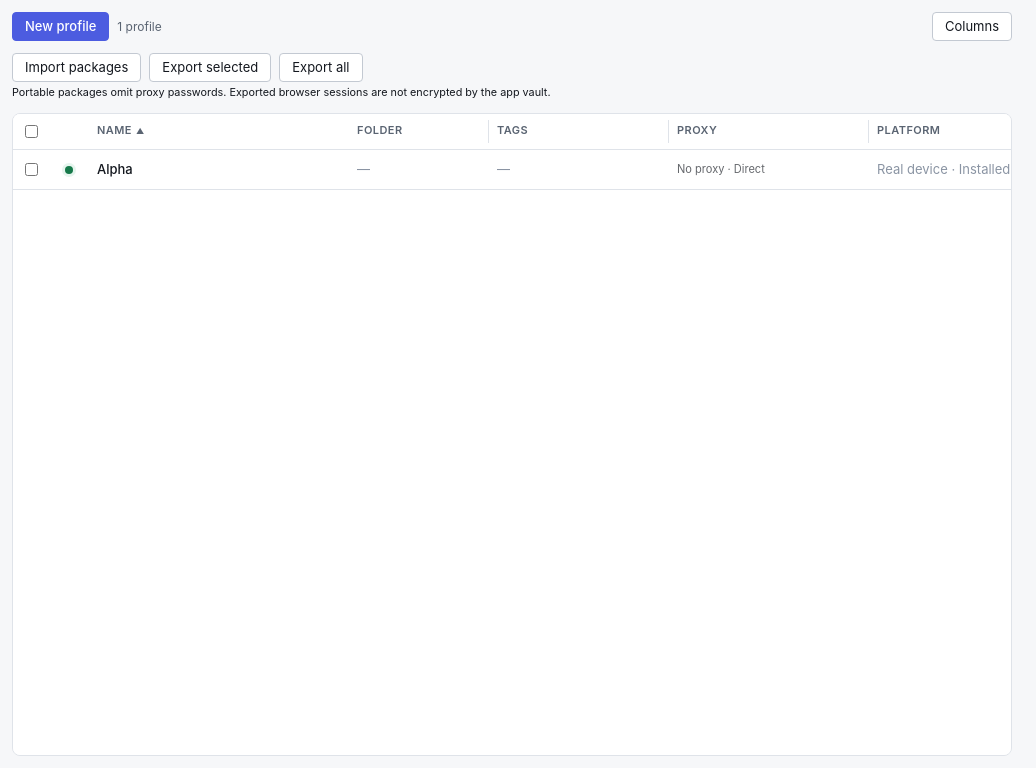
it: disables cookie portability for running profiles
This screenshot has width=1036, height=768.
Right-click the button "Alpha".
right_click(115, 169)  # box [97, 160, 133, 178]
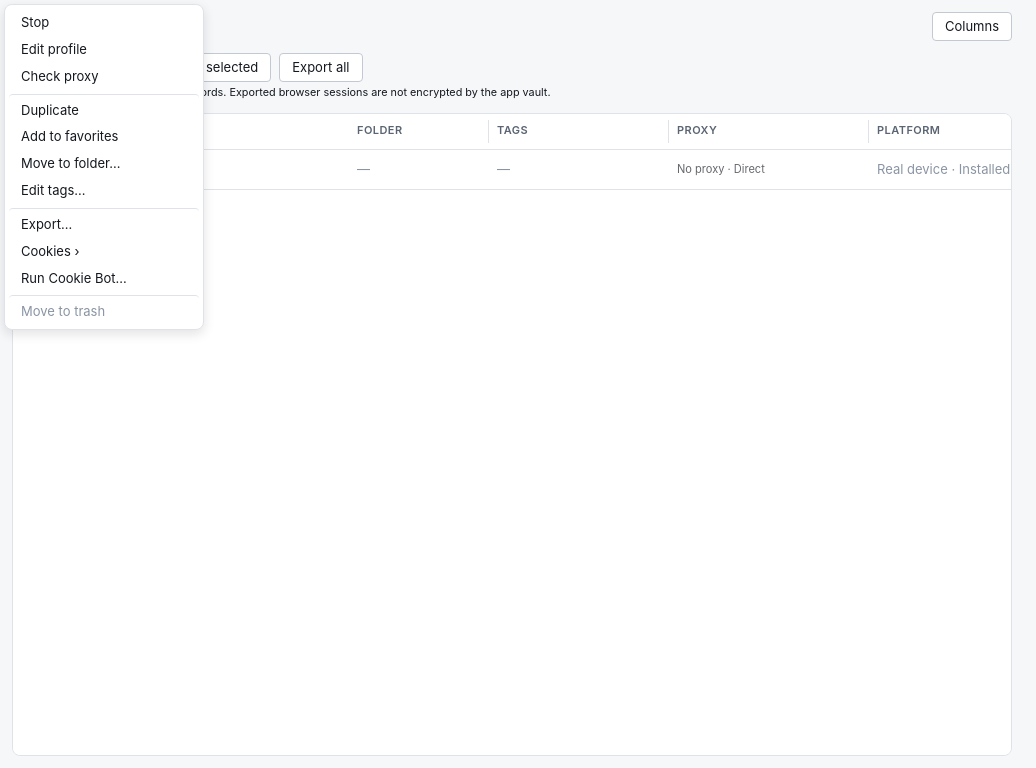
Click the menu item "Cookies ›".
click(104, 251)  # box [9, 238, 199, 265]
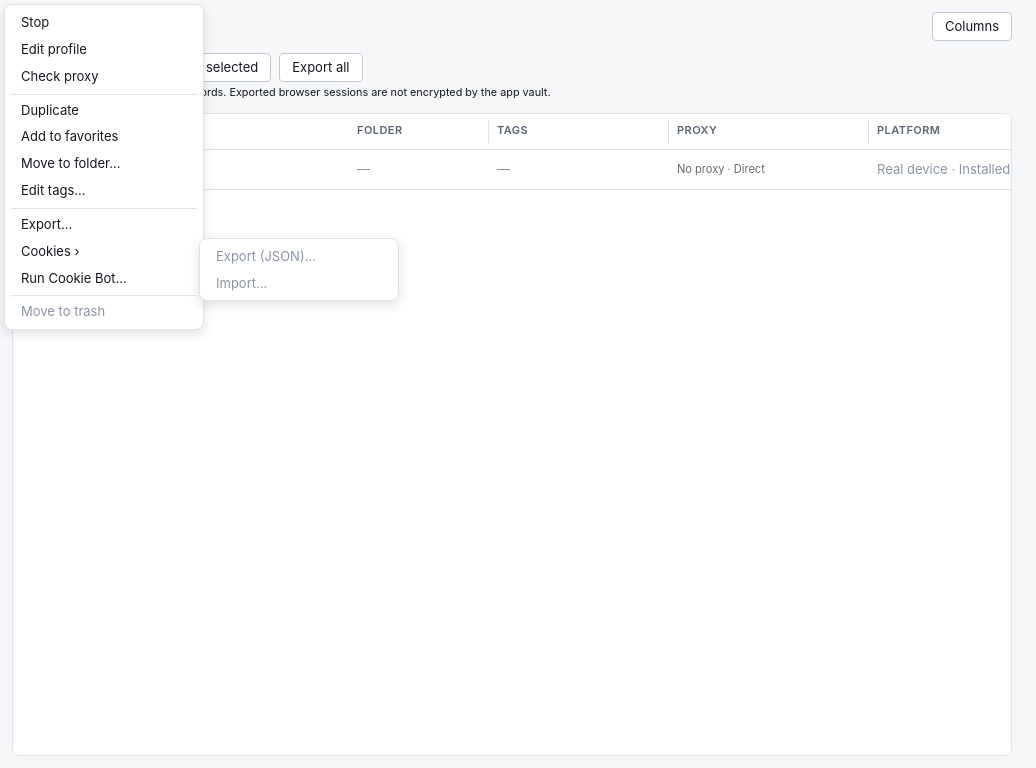
Check: the menu item "Export (JSON)…" is disabled, box [204, 243, 394, 270]
Check: the menu item "Import…" is disabled, box [204, 270, 394, 296]
